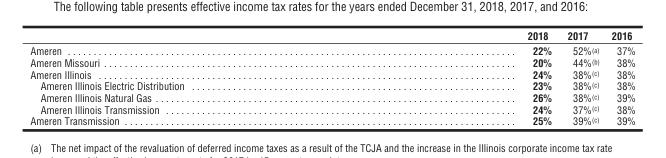table: (29, 28, 634, 126)
table column: (29, 28, 355, 126), (355, 28, 558, 126), (558, 28, 595, 126), (604, 28, 634, 126), (595, 28, 604, 126)
table column header: (29, 28, 634, 56)
table row: (29, 28, 634, 56), (29, 56, 634, 68), (29, 79, 634, 91), (29, 102, 634, 114), (29, 114, 634, 126), (29, 68, 634, 79), (29, 91, 634, 102)
